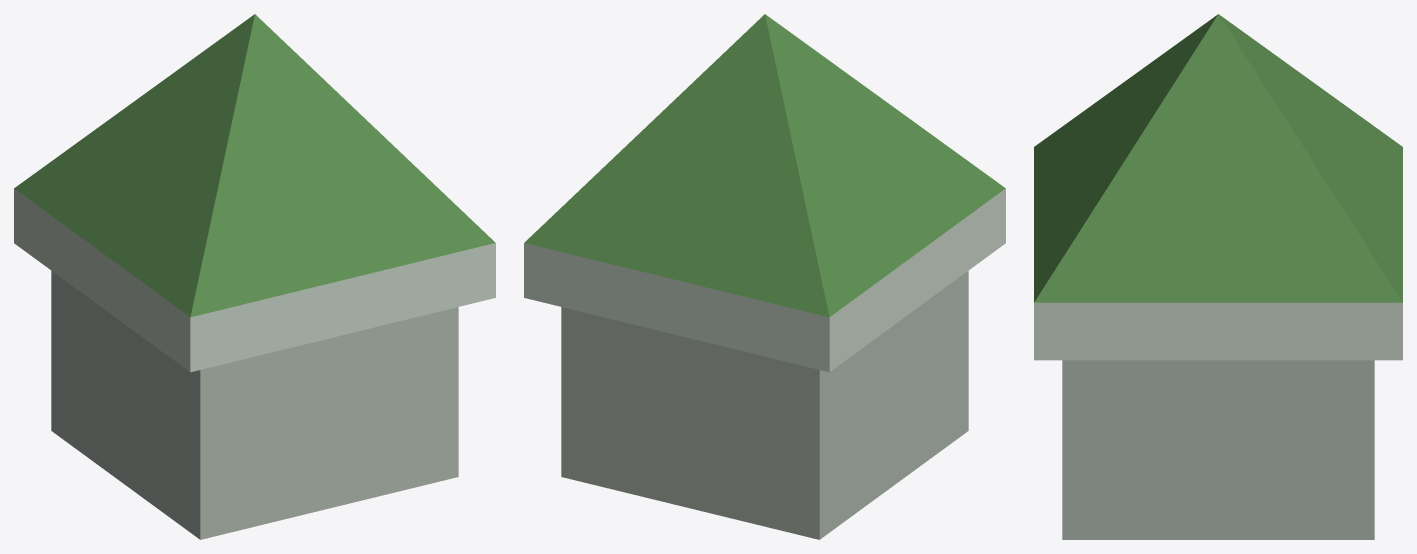
Rendered from towerDefense_055.obj.
3 views of the same model, side by side, from view 1: azimuth 30°, elevation 25°; view 2: azimuth 150°, elevation 25°; view 3: azimuth 270°, elevation 25° (orthographic). The views are drawn at different scales.
Visible parts, largest first — view 1: Mesh1 Group1 Model; view 2: Mesh1 Group1 Model; view 3: Mesh1 Group1 Model.
Part boxes in pixels (x1=…): Mesh1 Group1 Model: x1=14, y1=14, x2=495, y2=539; Mesh1 Group1 Model: x1=524, y1=14, x2=1005, y2=539; Mesh1 Group1 Model: x1=1034, y1=14, x2=1402, y2=539.
Bounding box in the file's own units: 0.6974 × 0.96 × 0.6974.
